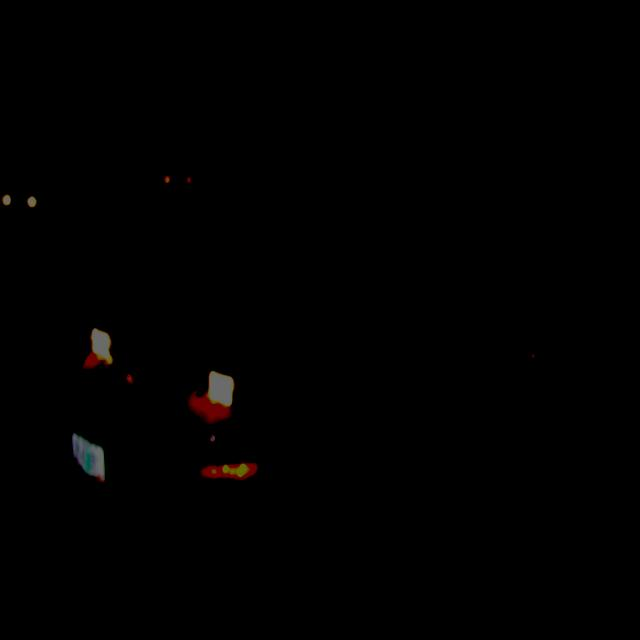Car: (74, 232, 531, 534)
